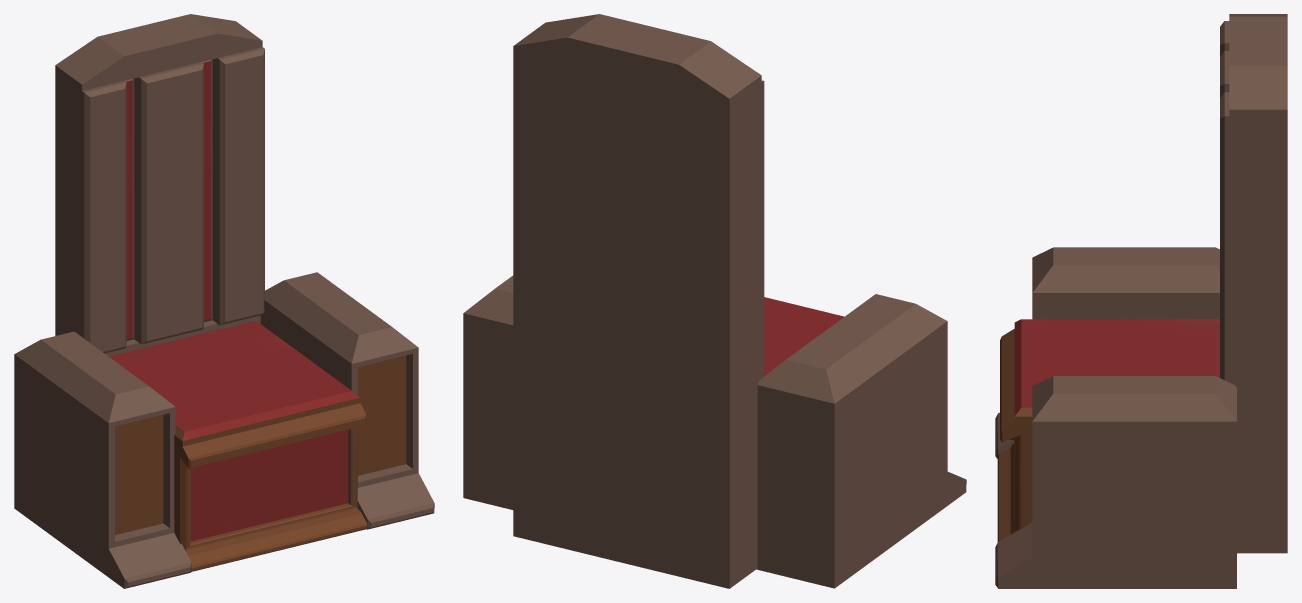
The model's file is throne.fbx.
3 views of the same model, side by side, from view 1: azimuth 30°, elevation 25°; view 2: azimuth 150°, elevation 25°; view 3: azimuth 270°, elevation 25° (orthographic). The views are drawn at different scales.
Visible parts, largest first — view 1: throne; view 2: throne; view 3: throne.
Part boxes in pixels (box(x1,y1,x2,y2)): throne: box(14, 14, 434, 588); throne: box(463, 14, 966, 588); throne: box(995, 14, 1287, 588).
Bounding box in the file's own units: 183 × 242 × 138.
Materials: 1 (1 with a texture image).
